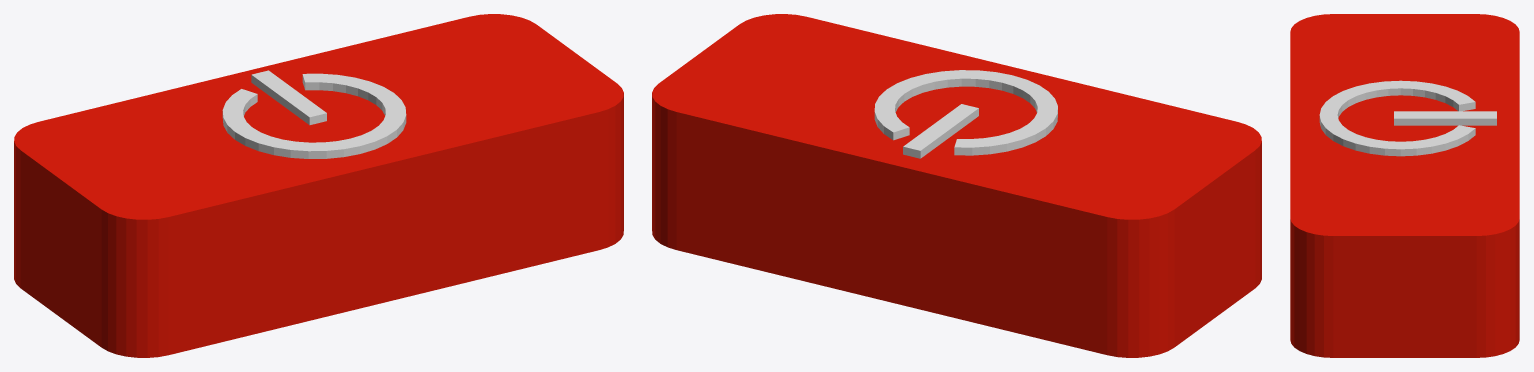
Rendered from button_switchonfbx.fbx.
3 renders of one model, left to right at view 1: azimuth 30°, elevation 25°; view 2: azimuth 150°, elevation 25°; view 3: azimuth 270°, elevation 25°, orthographic. The views are drawn at different scales.
Parts seen in each view (by area): view 1: Cube.003; view 2: Cube.003; view 3: Cube.003.
Part boxes in pixels (x1,y1,x2,y2): Cube.003: [14, 14, 623, 357]; Cube.003: [652, 14, 1261, 357]; Cube.003: [1290, 14, 1519, 357].
Size of the model in its own units: 75.18 by 20.35 by 32.85.
